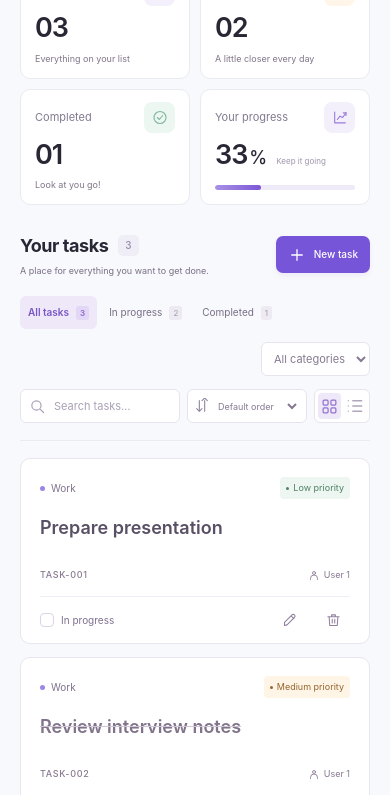
Test: Taskly workflows › sorts by priority and exposes category filtering outside the sidebar
The width and height of the screenshot is (390, 795).
(page scrolled)
Step 1. Select "Priority" in the dropdown named "Sort tasks" → point(257, 406), box [214, 396, 300, 417]
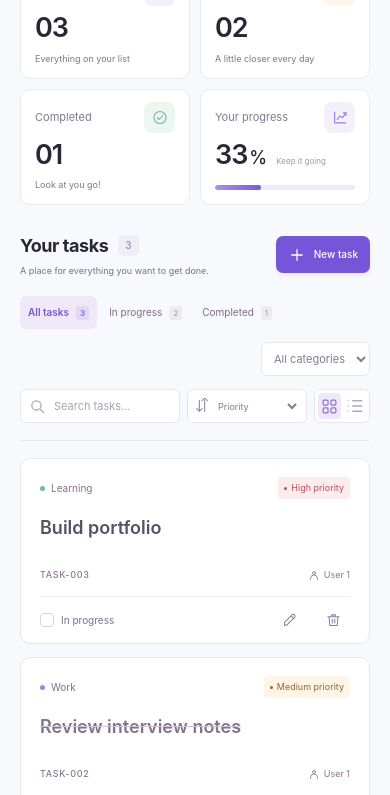
Expected: the element with class "task-card" shows "Build portfolio", [40, 517, 162, 538]
Step 2. Select "Learning" in the dropdown named "Filter by category" → point(316, 359), box [261, 342, 370, 376]
(page scrolled)
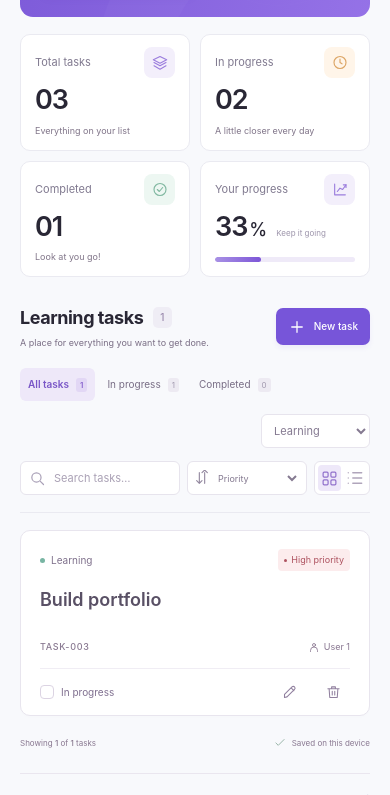
Expected: the element with class "task-card" shows "Build portfolio", [40, 589, 162, 610]
Now the 2nd text "1" is shown, box [76, 378, 87, 392]
